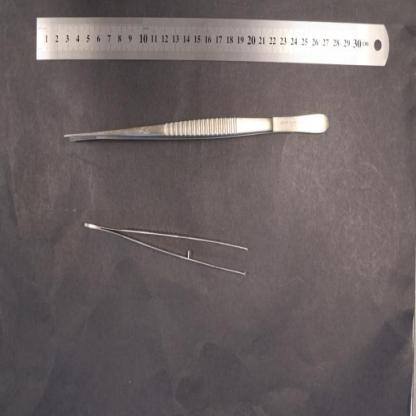DeBakey Dissector: (64, 111, 330, 143)
Gillies Toothed Dissector: (84, 223, 249, 277)
